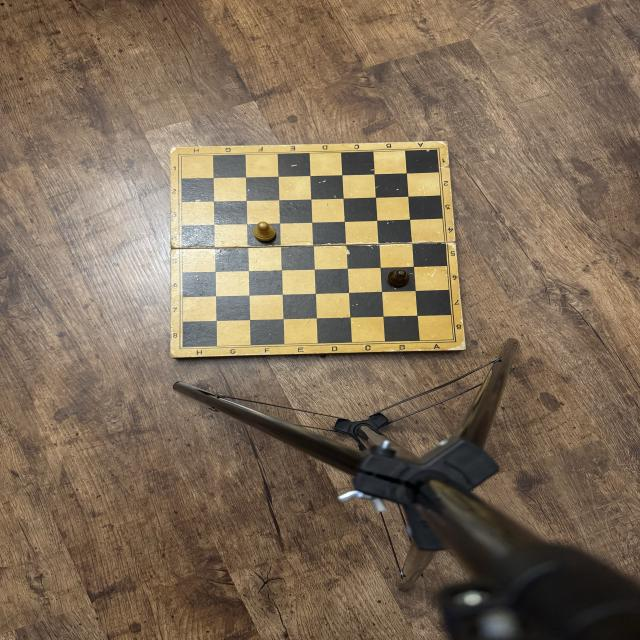black-pawn: (387, 269, 410, 287)
white-pawn: (253, 222, 276, 242)
